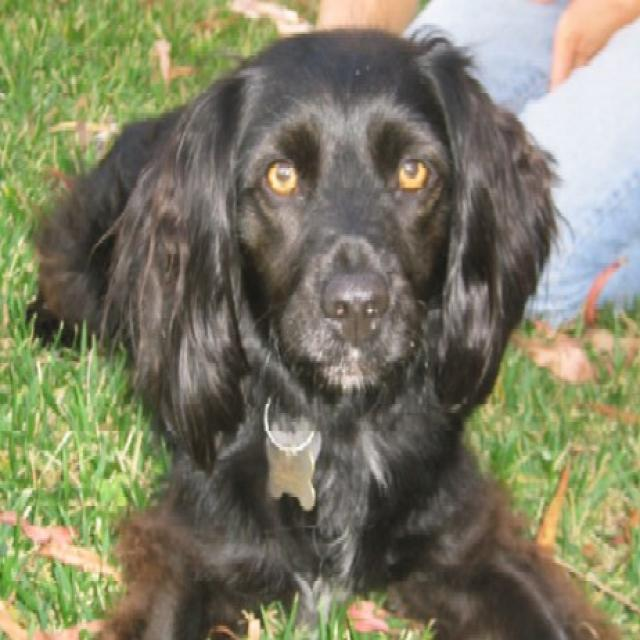Dogs: (25, 23, 629, 638)
